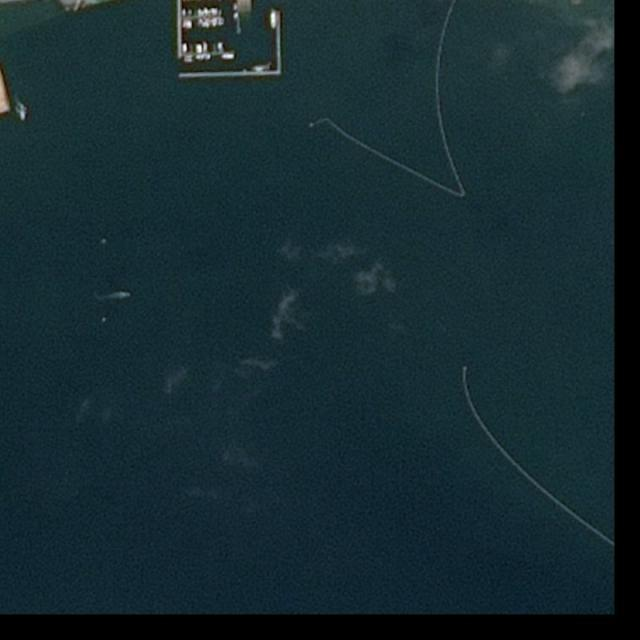ship: (270, 14, 277, 29), (222, 53, 235, 60), (20, 108, 26, 122), (196, 54, 210, 60), (254, 66, 269, 71), (123, 292, 132, 297)
